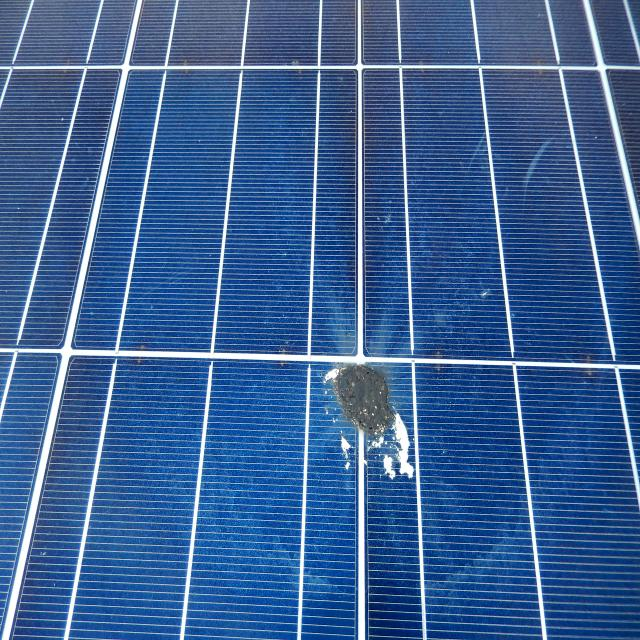bird: (299, 352, 432, 511)
